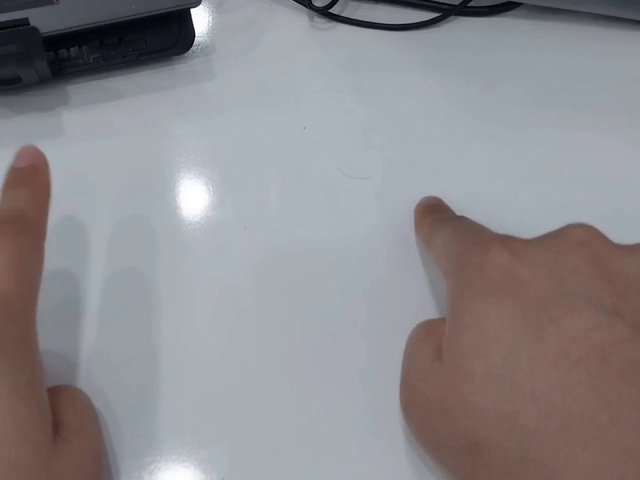fingers: (6, 141, 51, 200), (412, 194, 457, 240)
